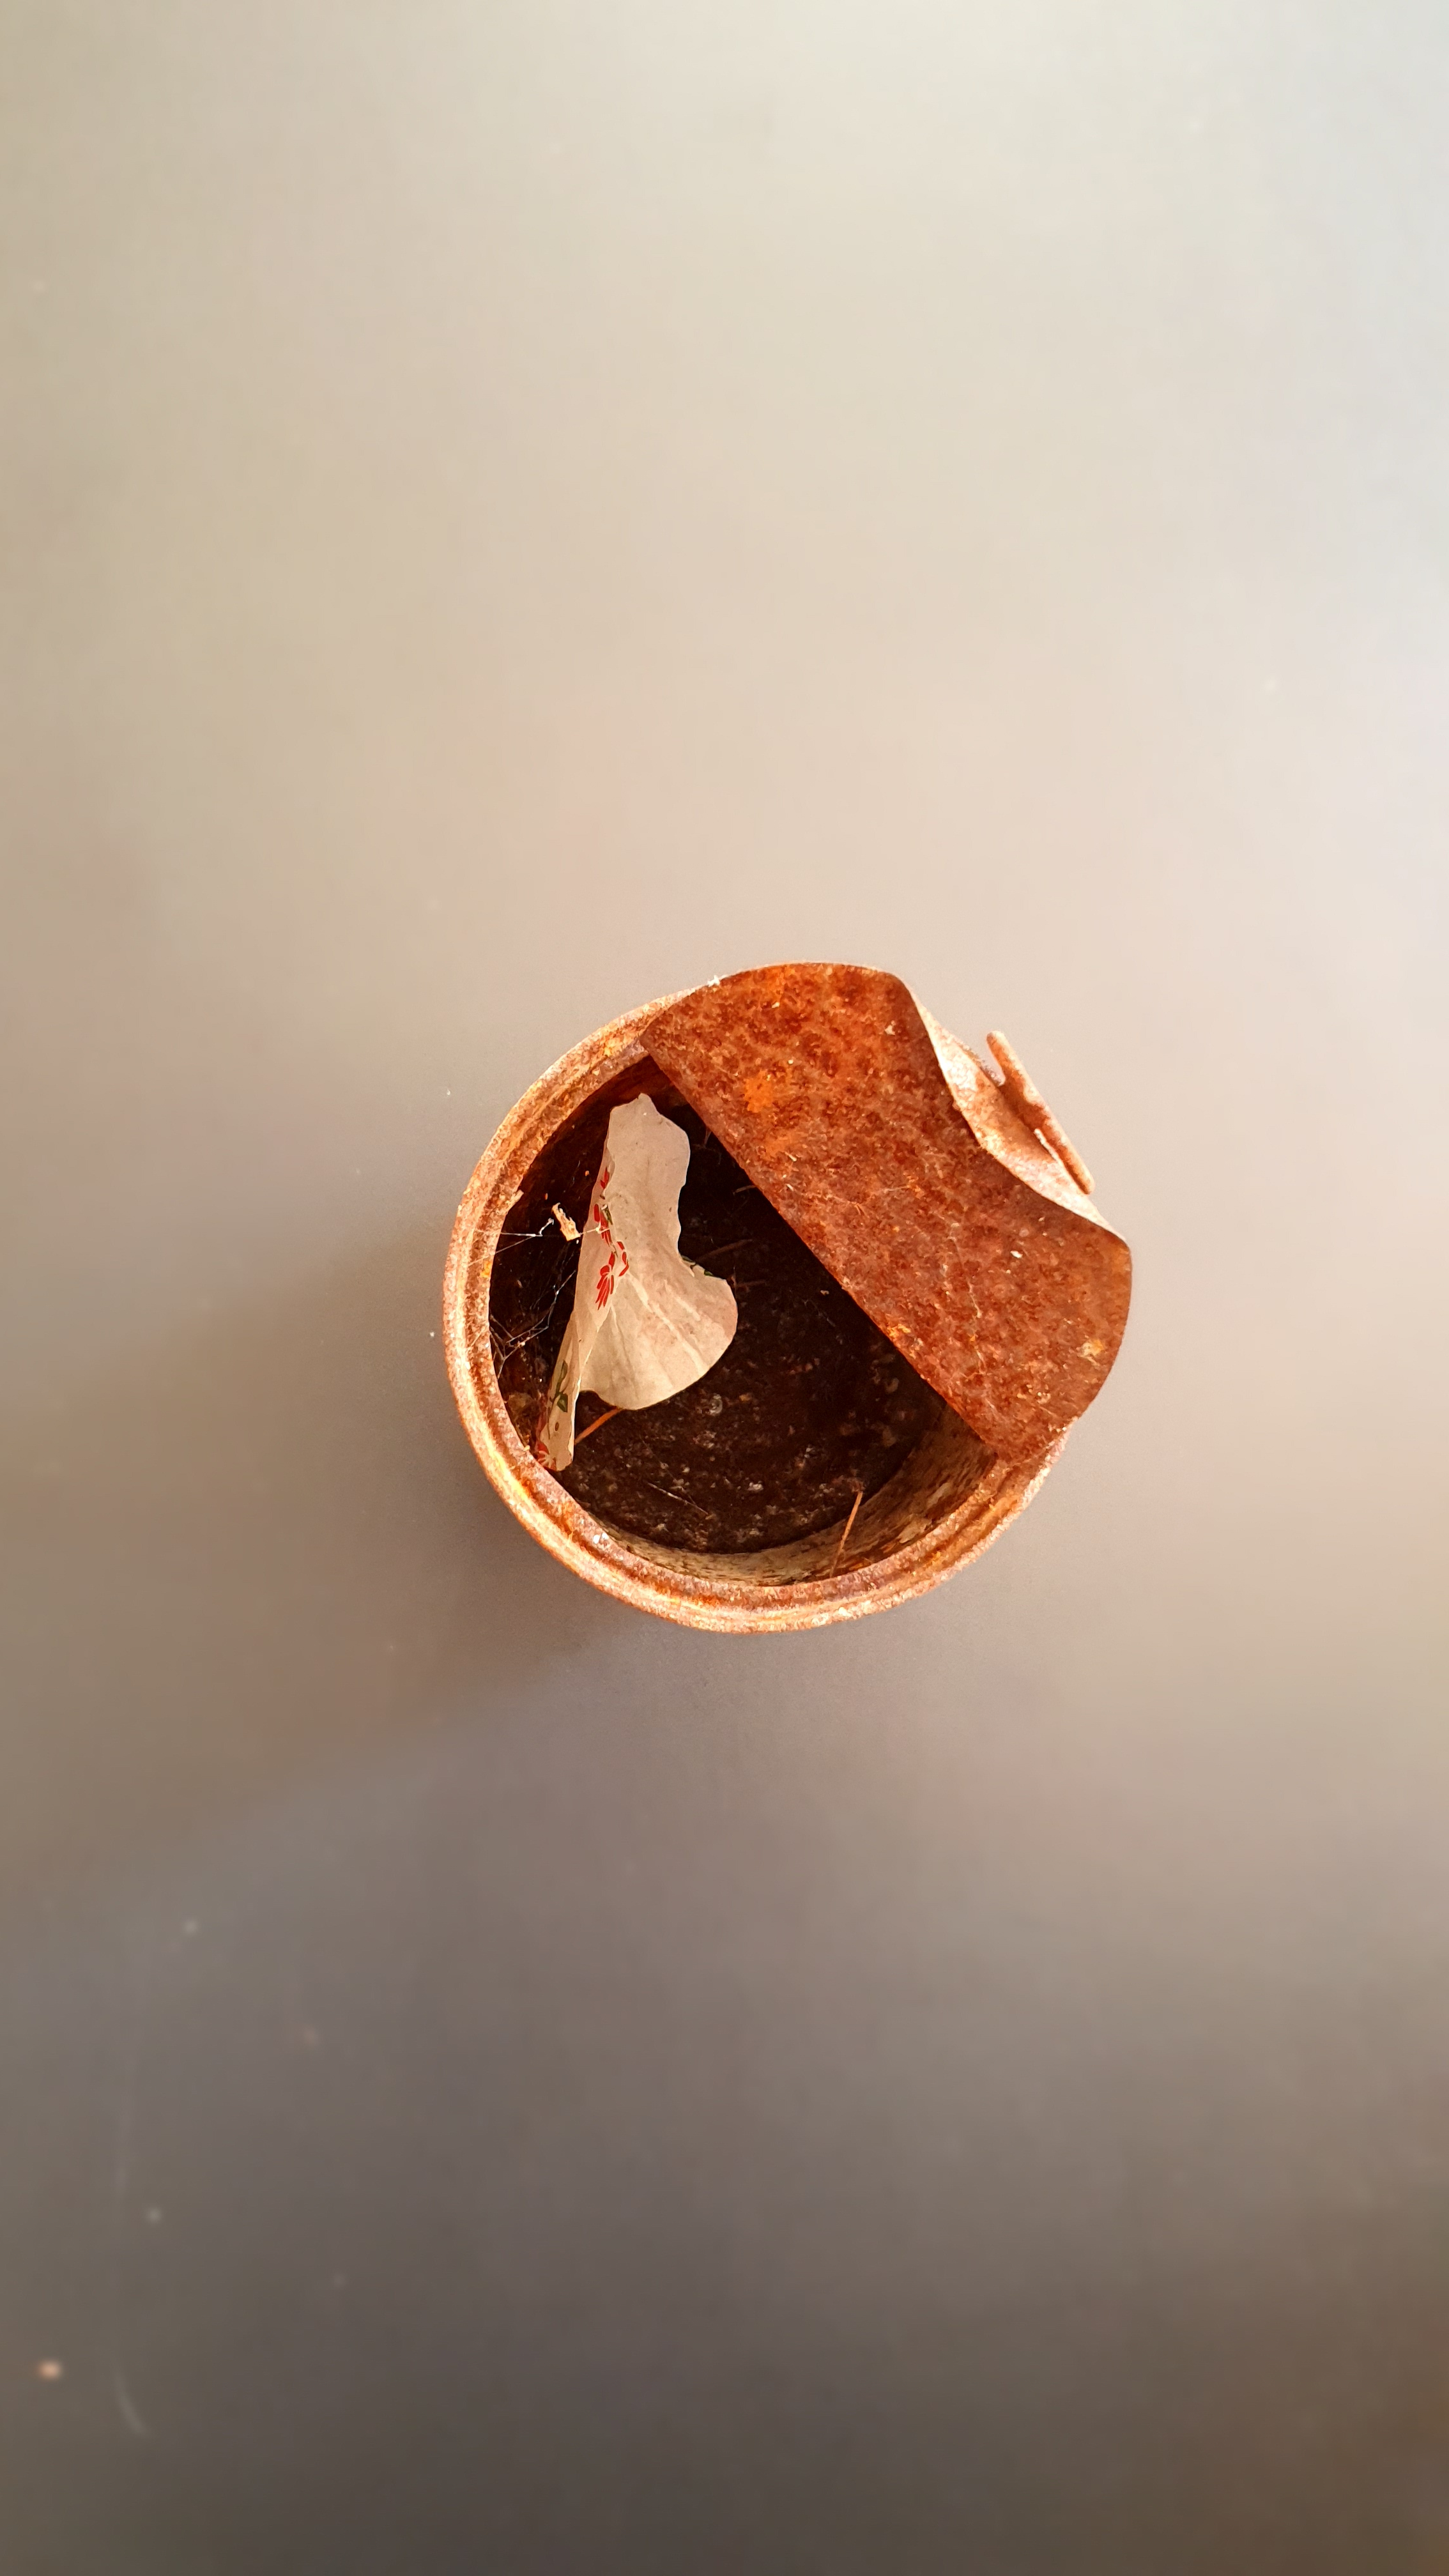metal: (407, 902, 1177, 1677)
